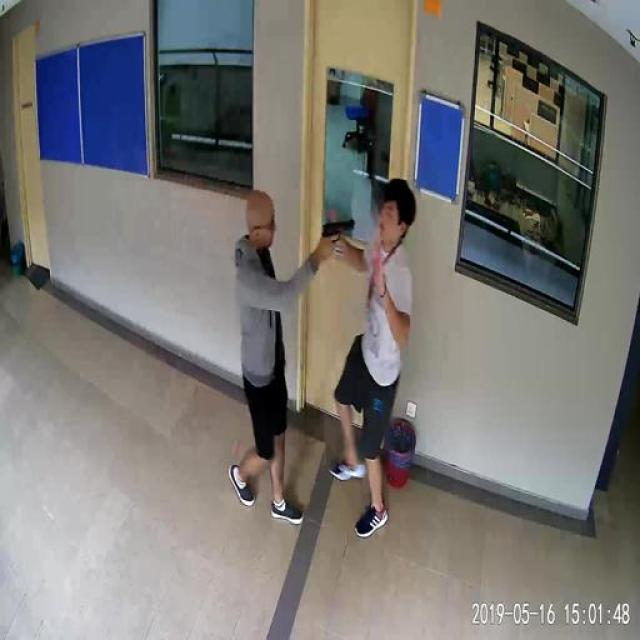Gun: (304, 214, 364, 258)
